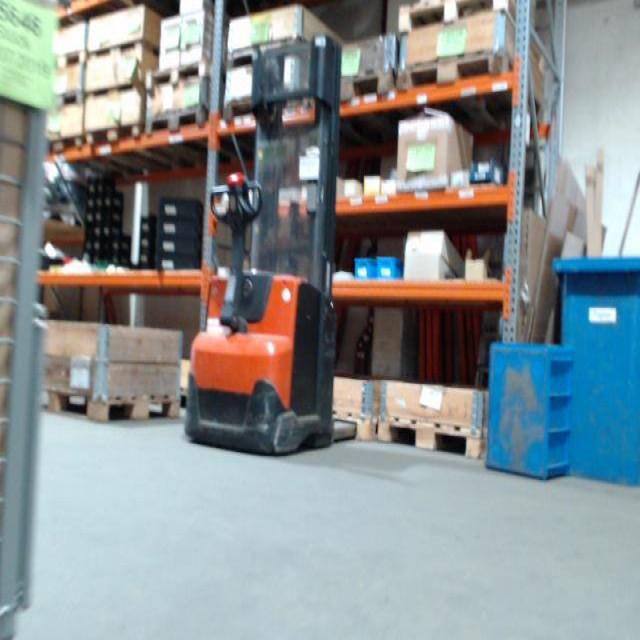pallet: (44, 383, 180, 425), (394, 49, 513, 93), (377, 415, 487, 458), (398, 0, 517, 33), (87, 33, 158, 64), (145, 57, 211, 90), (337, 71, 392, 105), (147, 103, 209, 133), (224, 38, 281, 68), (88, 119, 143, 146), (86, 77, 146, 99), (45, 133, 85, 159), (222, 97, 257, 122), (52, 88, 86, 109), (55, 49, 86, 70)
pallet_truck: (186, 30, 367, 462)
small_load_carrier: (156, 195, 204, 217), (155, 234, 205, 254), (157, 254, 205, 272), (155, 217, 205, 234), (377, 252, 400, 276), (352, 256, 376, 277)
stillage: (2, 1, 68, 637)
